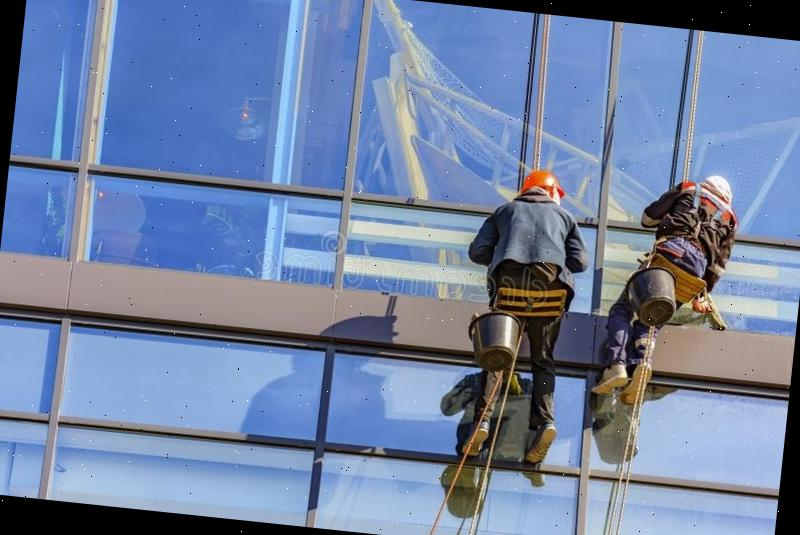helmet: (520, 166, 566, 204)
